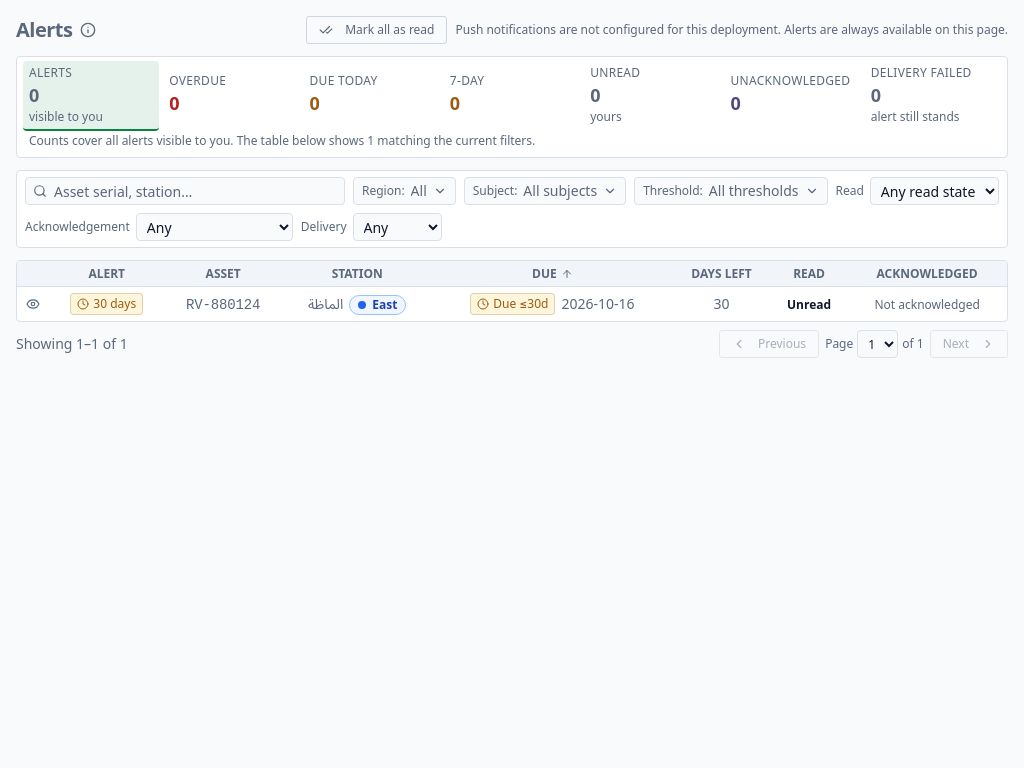
Test: Column priority › keeps exactly the compact scanning columns and moves secondary data to details
Check: the text "RV-880124" is shown, box [186, 296, 260, 312]
Click the button named "show the full technical record" at (33, 304), box [23, 294, 43, 314]
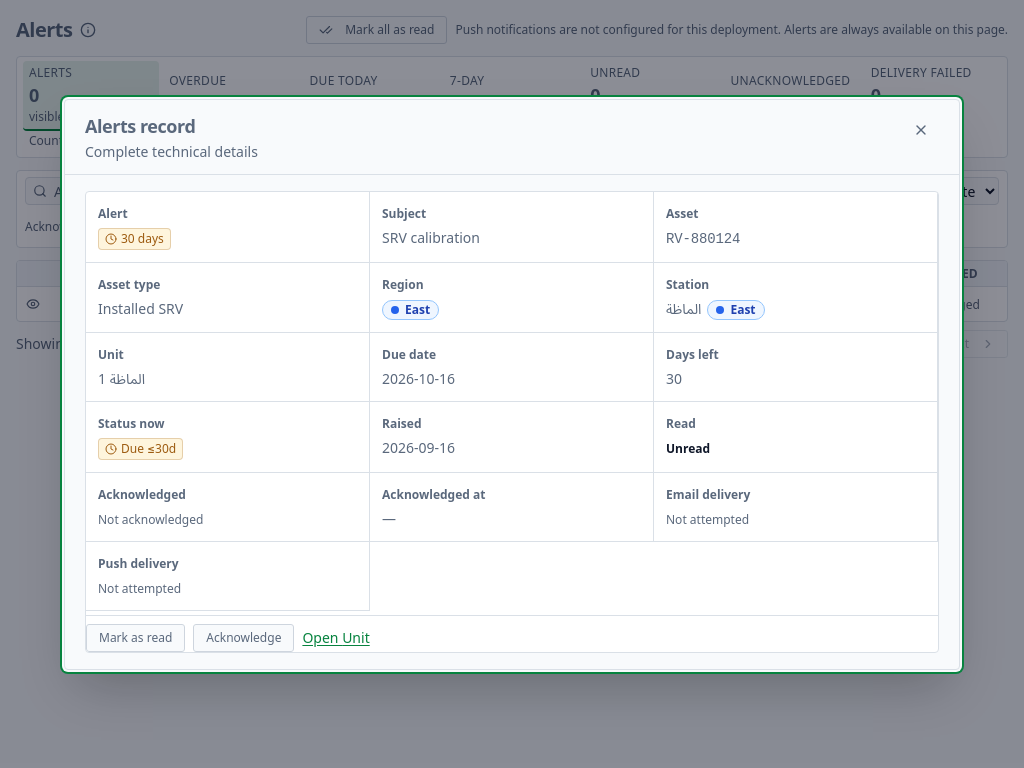
Check: the text "Unit" is shown, box [98, 346, 124, 362]
Check: the text "Subject" is shown, box [382, 204, 426, 222]
Check: the text "Email delivery" is shown, box [666, 486, 750, 502]
